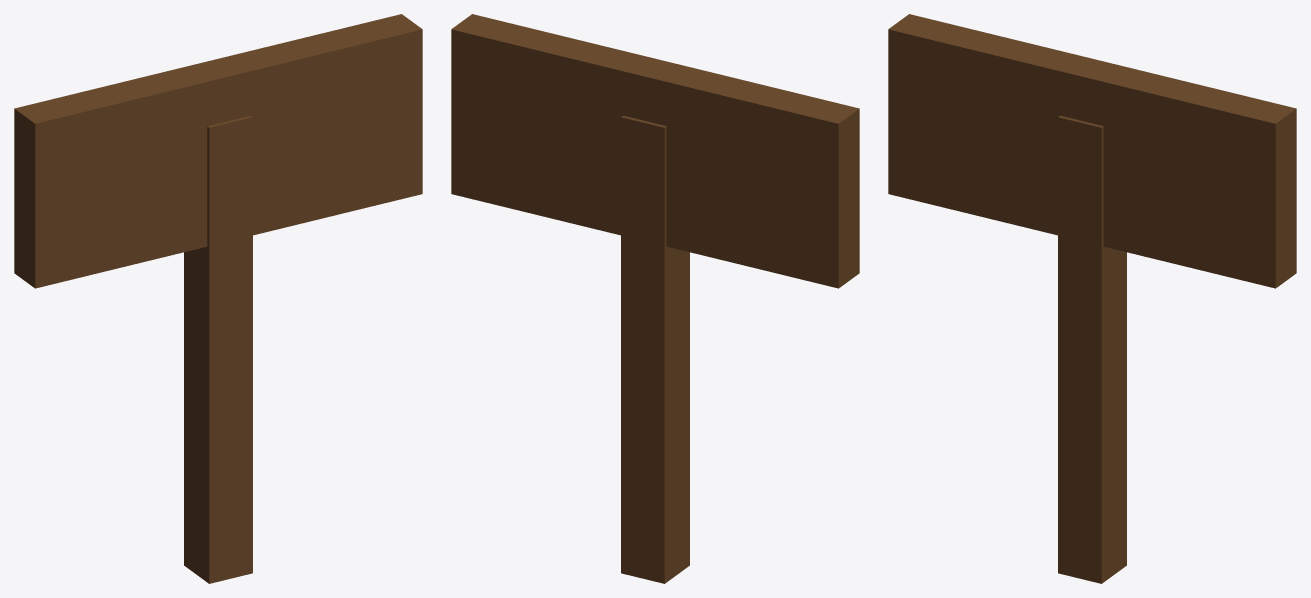
The model's file is wooden_sign.glb.
3 renders of one model, left to right at view 1: azimuth 30°, elevation 25°; view 2: azimuth 150°, elevation 25°; view 3: azimuth 330°, elevation 25°, orthographic.
Parts seen in each view (by area): view 1: wooden_sign; view 2: wooden_sign; view 3: wooden_sign.
Part boxes in pixels (x1,y1,x2,y2): wooden_sign: (14, 14, 422, 583); wooden_sign: (451, 14, 859, 583); wooden_sign: (888, 14, 1296, 583).
Size of the model in its own units: 1.6 by 1.98 by 0.18.
